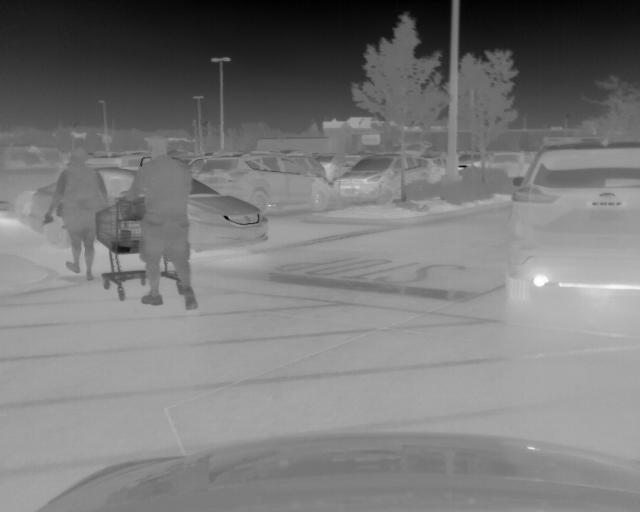car: (503, 142, 640, 304), (28, 164, 270, 249), (202, 153, 333, 213), (1, 144, 72, 223), (333, 153, 436, 204), (485, 152, 532, 183), (457, 150, 488, 175)
people: (118, 135, 199, 308), (42, 148, 110, 281)
